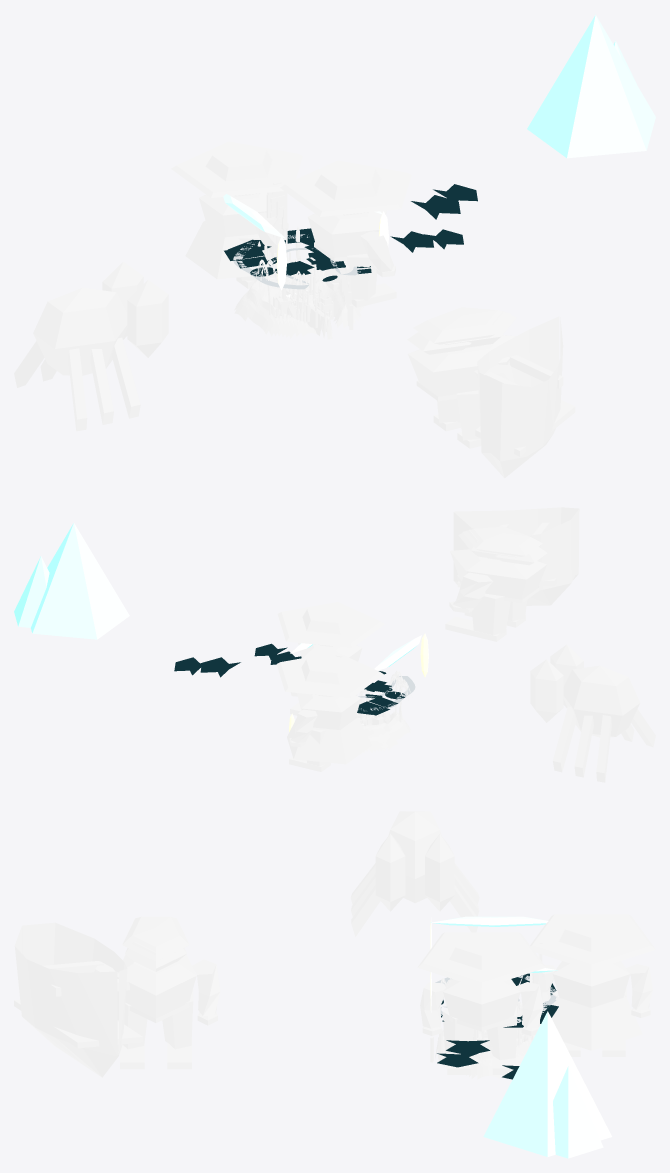
Rendered from ile-engloutie-v5-leger.glb.
3 views of the same model, one above another, from view 1: azimuth 30°, elevation 25°; view 2: azimuth 150°, elevation 25°; view 3: azimuth 270°, elevation 25° (orthographic). The views are drawn at different scales.
Parts seen in each view (by area): view 1: ile_anime4.009, ile_libre0.013, ile_anime2.015, ile_anime0.015, ile_anime3.013, ile_anime1.015, ile_corps.015, ile_libre2, ile_libre1.007, ile_lumieres.015; view 2: ile_anime4.009, ile_anime3.013, ile_anime1.015, ile_libre0.013, ile_anime0.015, ile_anime2.015, ile_corps.015, ile_libre1.007, ile_libre2, ile_lumieres.015; view 3: ile_anime3.013, ile_anime0.015, ile_anime2.015, ile_anime1.015, ile_libre0.013, ile_anime4.009, ile_corps.015, ile_lumieres.015, ile_libre1.007, ile_libre2.
Boxes of the visible parts, x1=… form: ile_anime4.009: x1=14, y1=262, x2=168, y2=431; ile_libre0.013: x1=527, y1=14, x2=655, y2=158; ile_anime2.015: x1=280, y1=160, x2=411, y2=307; ile_anime0.015: x1=475, y1=316, x2=575, y2=478; ile_anime3.013: x1=171, y1=141, x2=302, y2=288; ile_anime1.015: x1=407, y1=307, x2=516, y2=448; ile_corps.015: x1=234, y1=181, x2=365, y2=339; ile_libre2: x1=224, y1=228, x2=371, y2=289; ile_libre1.007: x1=390, y1=184, x2=477, y2=252; ile_lumieres.015: x1=223, y1=168, x2=388, y2=297; ile_anime4.009: x1=530, y1=644, x2=655, y2=782; ile_anime3.013: x1=276, y1=652, x2=383, y2=771; ile_anime1.015: x1=445, y1=526, x2=547, y2=641; ile_libre0.013: x1=14, y1=523, x2=129, y2=639; ile_anime0.015: x1=453, y1=507, x2=579, y2=605; ile_anime2.015: x1=277, y1=602, x2=384, y2=715; ile_corps.015: x1=335, y1=654, x2=412, y2=754; ile_libre1.007: x1=174, y1=643, x2=301, y2=677; ile_libre2: x1=357, y1=671, x2=415, y2=715; ile_lumieres.015: x1=289, y1=633, x2=428, y2=731; ile_anime3.013: x1=530, y1=914, x2=655, y2=1056; ile_anime0.015: x1=14, y1=922, x2=142, y2=1077; ile_anime2.015: x1=417, y1=932, x2=545, y2=1074; ile_anime1.015: x1=94, y1=916, x2=220, y2=1069; ile_libre0.013: x1=483, y1=1011, x2=611, y2=1158; ile_anime4.009: x1=350, y1=811, x2=479, y2=936; ile_corps.015: x1=430, y1=939, x2=542, y2=1079; ile_lumieres.015: x1=430, y1=916, x2=557, y2=1012; ile_libre1.007: x1=437, y1=1040, x2=519, y2=1079; ile_libre2: x1=435, y1=973, x2=558, y2=1027.
Size of the model in its own units: 12.16 by 3.49 by 9.95.
